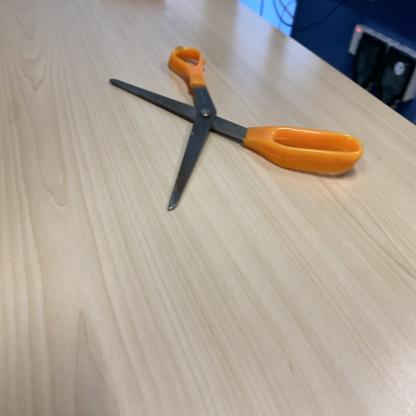scissors: (107, 42, 365, 218)
